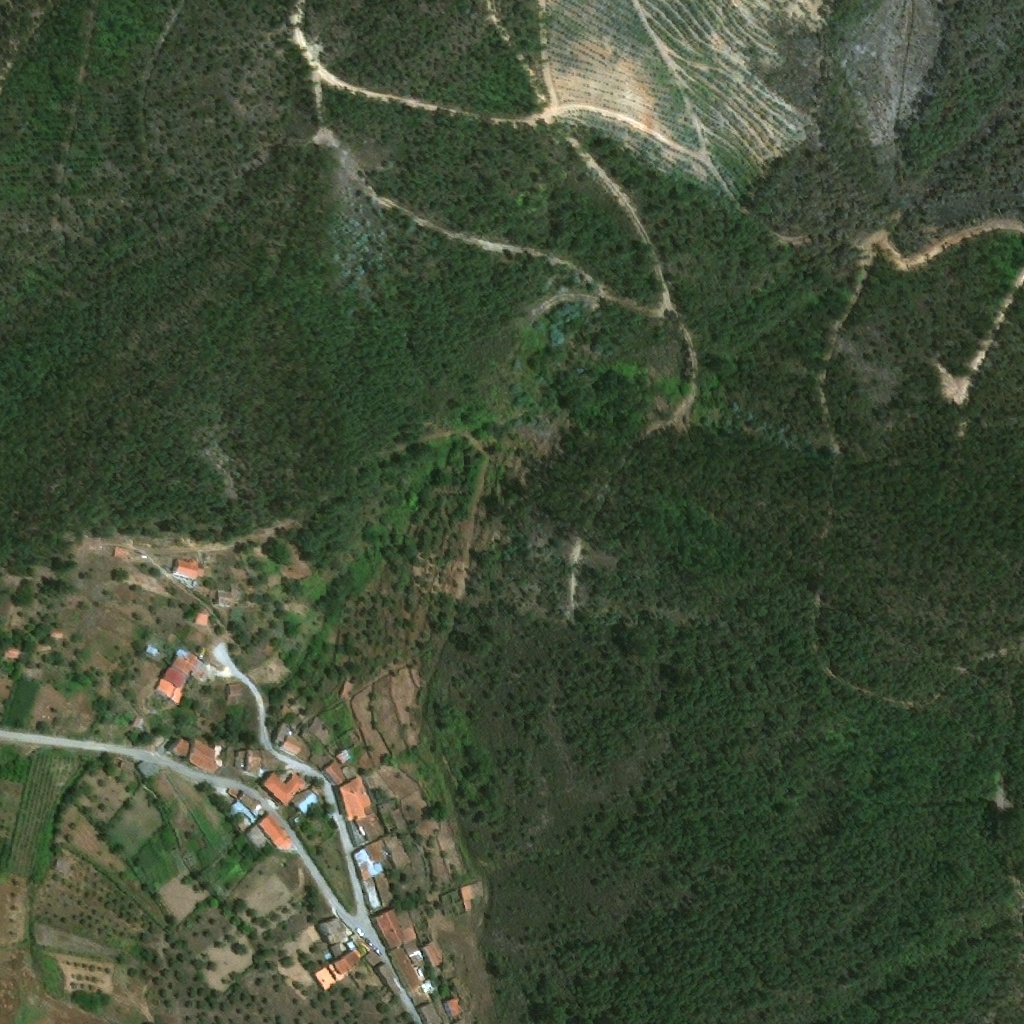0 no-damage: (334, 776, 384, 844), (154, 648, 210, 706), (352, 838, 394, 913), (313, 949, 364, 992), (169, 737, 228, 774), (370, 909, 418, 951), (260, 772, 306, 806), (257, 815, 294, 857), (388, 948, 422, 992), (318, 917, 347, 961), (235, 750, 280, 778), (223, 798, 256, 832), (320, 760, 357, 788), (379, 800, 409, 833), (373, 962, 401, 997), (293, 789, 320, 816), (245, 824, 270, 853), (303, 717, 332, 742), (238, 792, 265, 818), (283, 736, 312, 760), (387, 835, 409, 866), (375, 875, 395, 908), (461, 883, 483, 911), (174, 559, 200, 580), (425, 942, 446, 968), (404, 941, 426, 965), (417, 1003, 443, 1023), (135, 761, 161, 778), (340, 677, 357, 700), (275, 724, 296, 742), (445, 999, 463, 1019), (3, 643, 23, 660), (213, 591, 232, 606), (312, 755, 332, 769), (194, 611, 209, 628), (226, 682, 243, 697), (114, 547, 132, 560), (337, 749, 352, 764), (366, 953, 380, 967), (232, 586, 245, 600), (133, 717, 144, 729), (50, 629, 63, 639), (146, 646, 159, 655)
